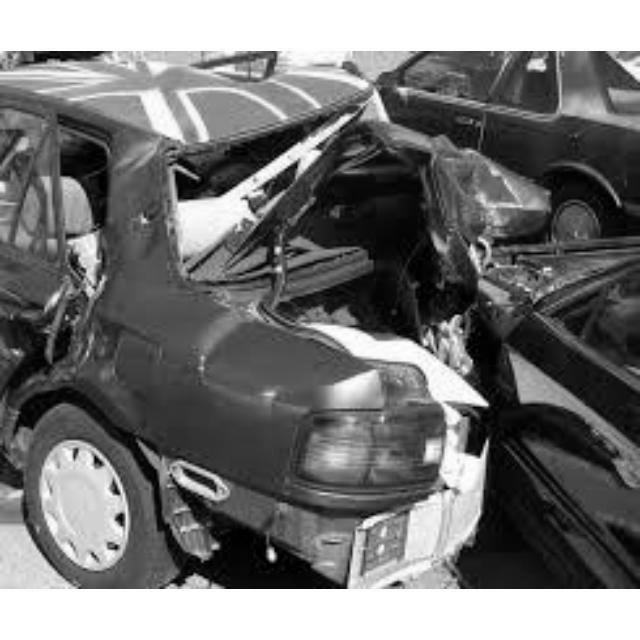Rear-windscreen-Damage: (175, 98, 321, 280)
